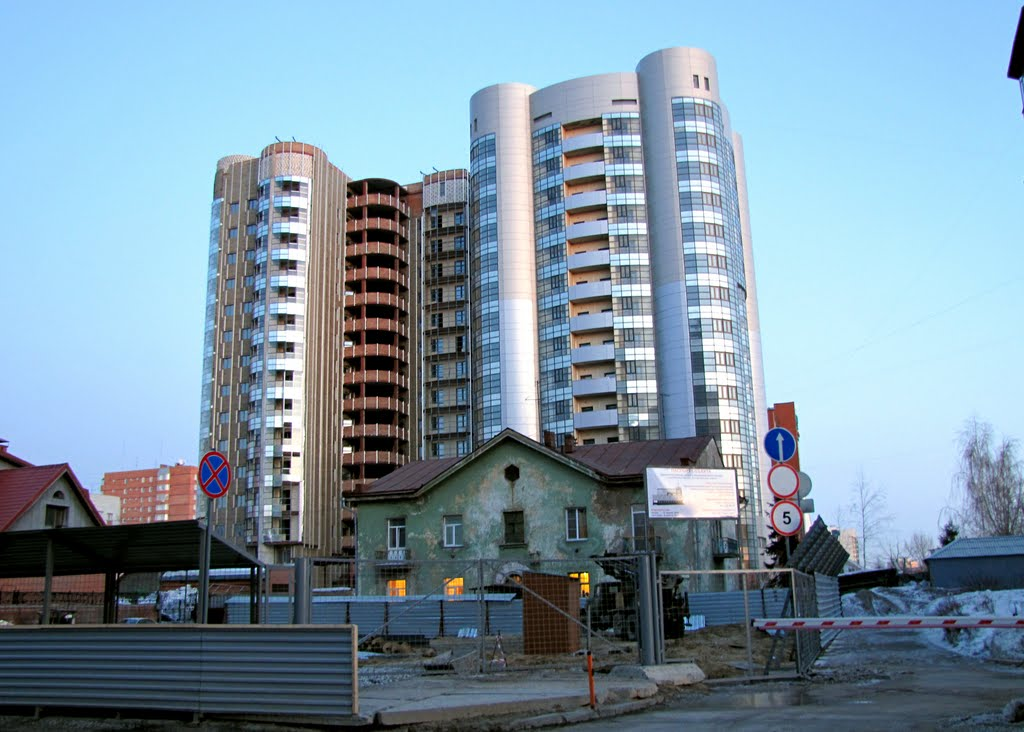sign: (197, 450, 231, 499), (770, 500, 805, 536), (763, 427, 797, 462), (767, 462, 800, 498)
